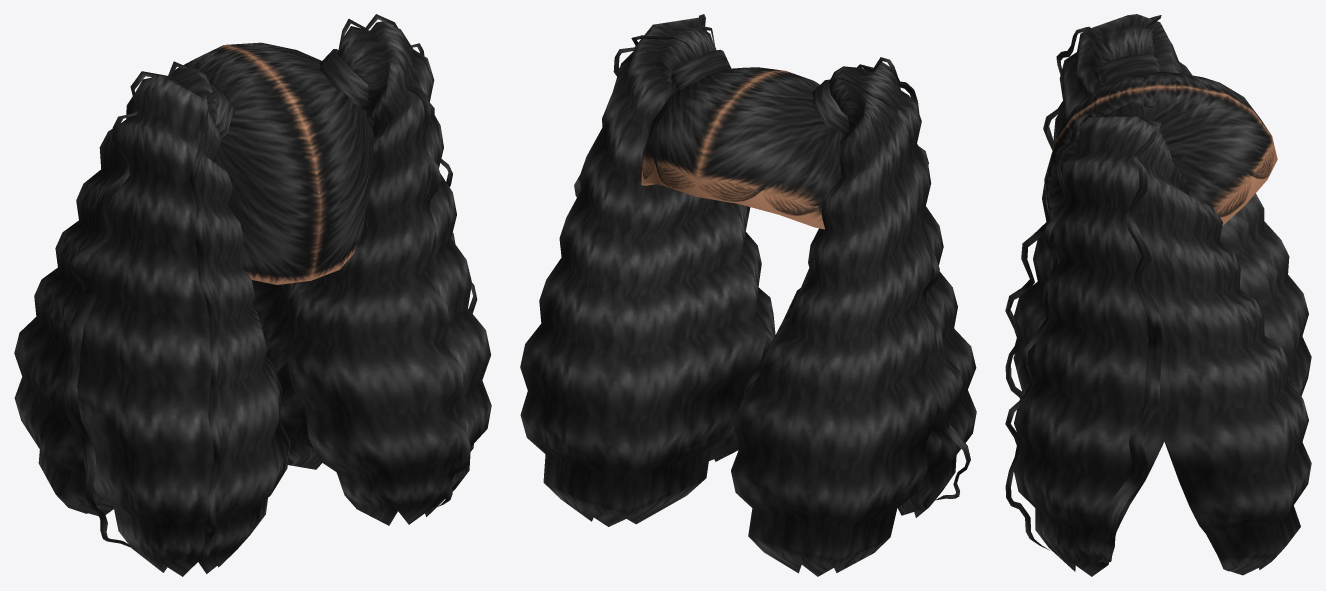
The picture shows the model from 3 angles, left to right: view 1: azimuth 30°, elevation 25°; view 2: azimuth 150°, elevation 25°; view 3: azimuth 270°, elevation 25°; orthographic projection. The views are drawn at different scales.
Parts seen in each view (by area): view 1: geometry_0; view 2: geometry_0; view 3: geometry_0.
Part boxes in pixels (left/top/right/bottom): geometry_0: left=14, top=14, right=491, bottom=576; geometry_0: left=520, top=14, right=976, bottom=576; geometry_0: left=1005, top=14, right=1311, bottom=576.
Size of the model in its own units: 2.56 by 2.85 by 1.76.
1 material, 1 textured.
